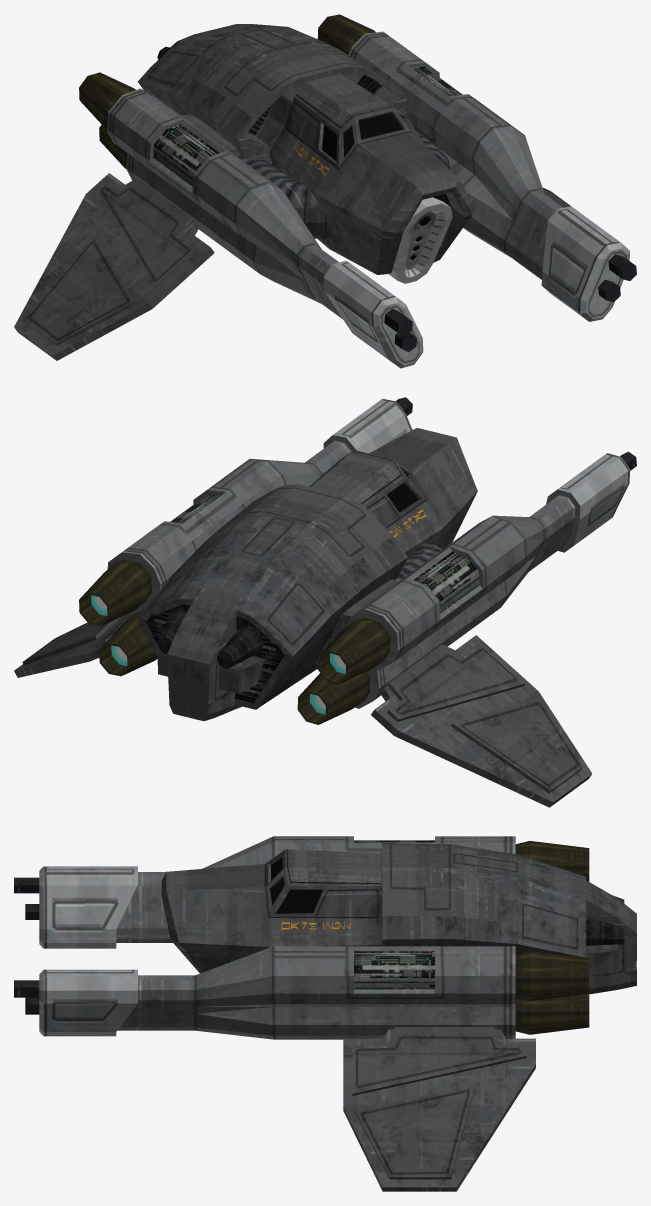
Rendered from invader.obj.
The picture shows the model from 3 angles, top to bottom: view 1: azimuth 30°, elevation 25°; view 2: azimuth 150°, elevation 25°; view 3: azimuth 270°, elevation 25°; orthographic projection. The views are drawn at different scales.
Visible parts, largest first — view 1: Hull; view 2: Hull; view 3: Hull.
Part boxes in pixels (x1,y1,x2,y2): Hull: (14,14,636,368); Hull: (14,397,636,807); Hull: (14,836,636,1191).
Bounding box in the file's own units: 116 × 46.03 × 122.
